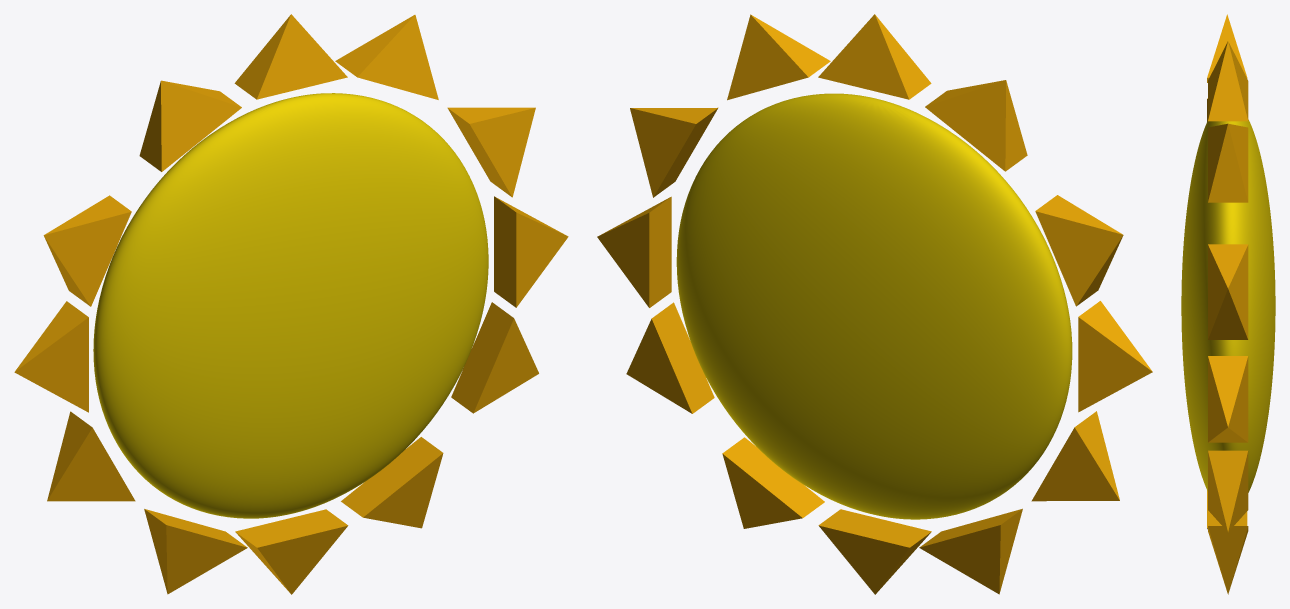
The model's file is Sun.fbx.
3 renders of one model, left to right at view 1: azimuth 30°, elevation 25°; view 2: azimuth 150°, elevation 25°; view 3: azimuth 270°, elevation 25°, orthographic. The views are drawn at different scales.
Visible parts, largest first — view 1: Sun; view 2: Sun; view 3: Sun.
Boxes of the visible parts, <box> form: Sun: <box>14,14,568,594</box>; Sun: <box>597,14,1152,594</box>; Sun: <box>1181,14,1275,594</box>.
Bounding box in the file's own units: 280 × 280 × 45.23.
